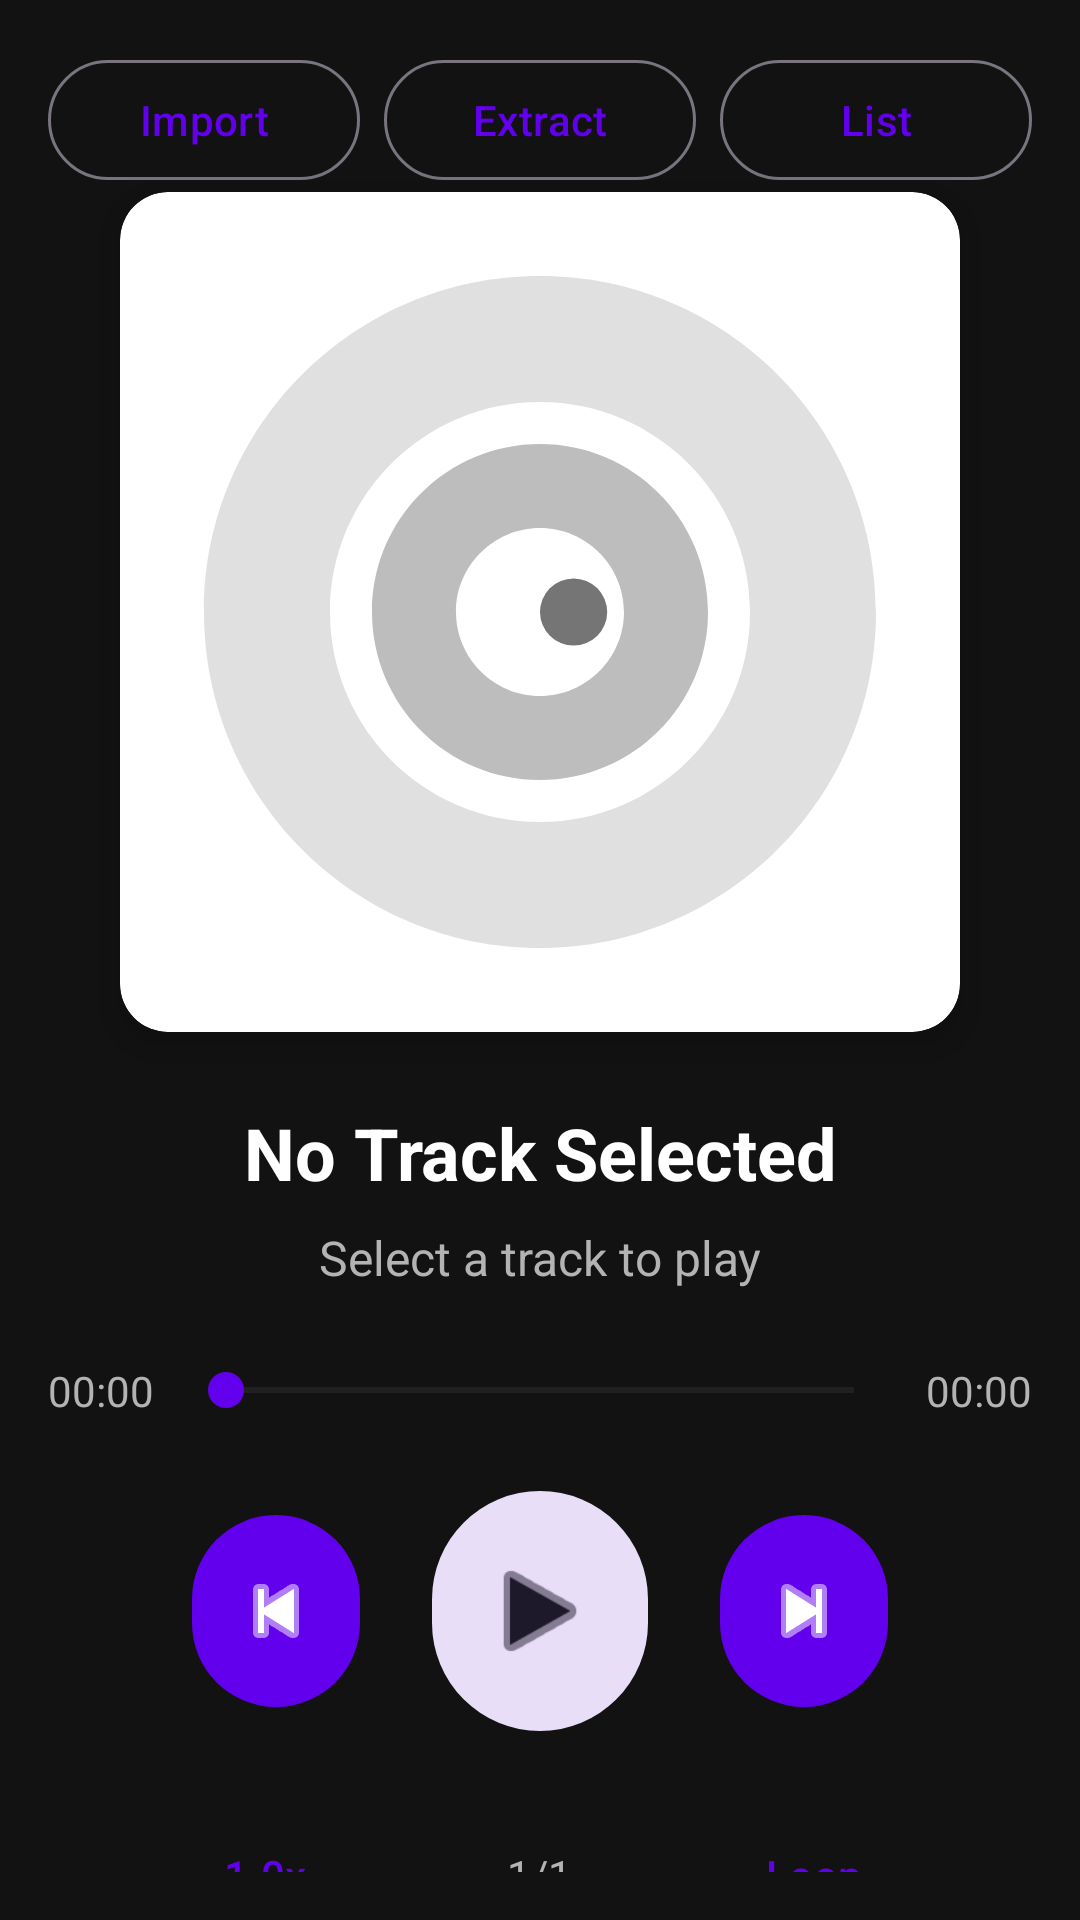

Screen size 1080px×1920px. Icon name, then its box in pixels as [x1, y1, x2, y2]:
next: [720, 1515, 888, 1707]
play: [432, 1491, 648, 1731]
previous: [192, 1515, 360, 1707]
